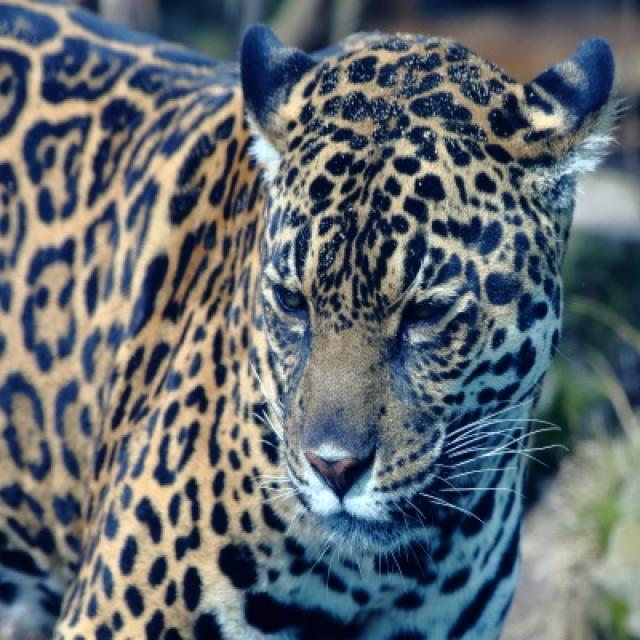Jaguar: (0, 3, 618, 638)
